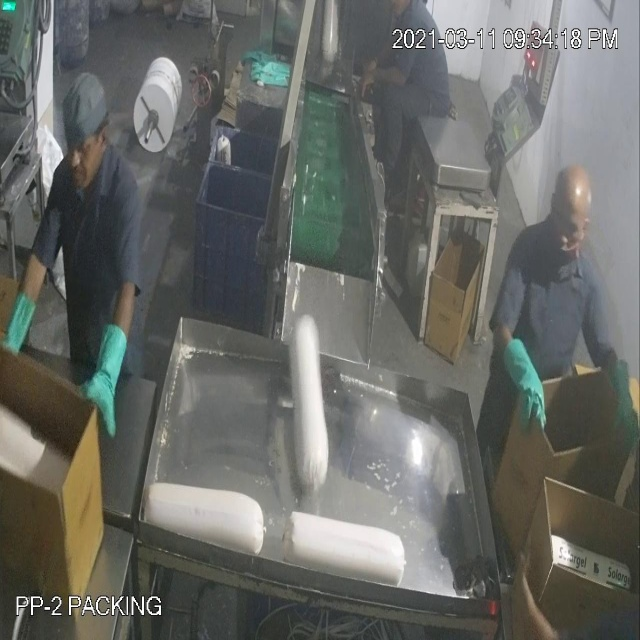Guantes: (86, 299, 136, 443), (507, 316, 551, 434), (609, 348, 640, 451)
Sin_guantes: (353, 53, 406, 101)
